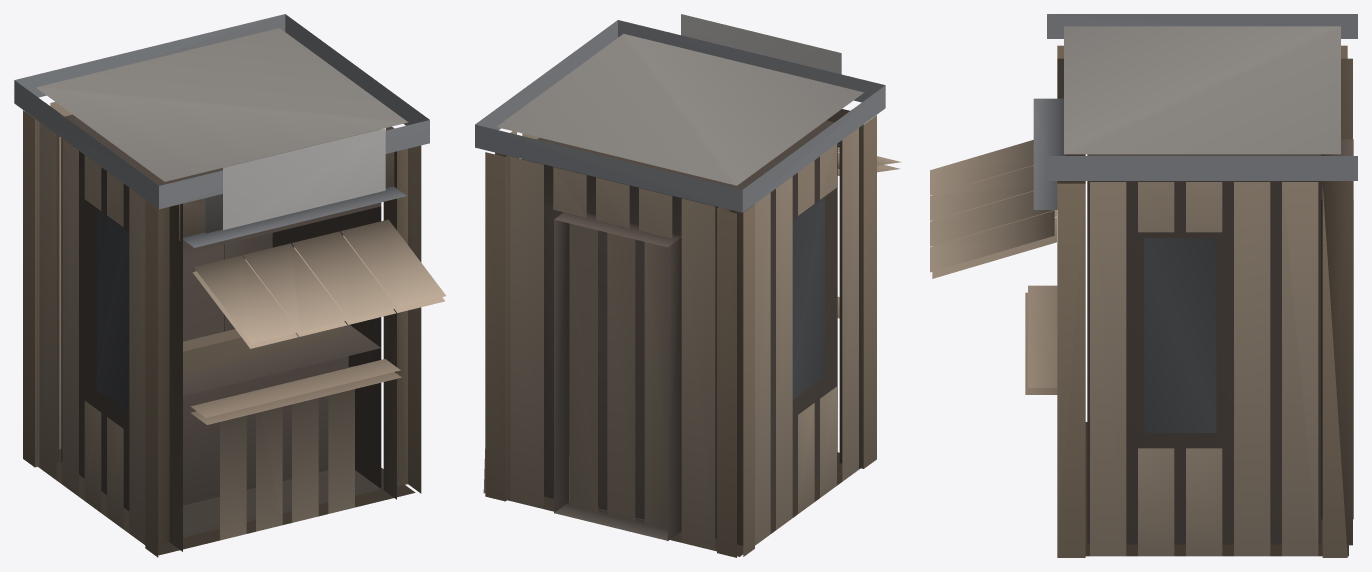
Rendered from kiosk.lod.glb.
3 views of the same model, side by side, from view 1: azimuth 30°, elevation 25°; view 2: azimuth 150°, elevation 25°; view 3: azimuth 270°, elevation 25° (orthographic). The views are drawn at different scales.
Visible parts, largest first — view 1: kiosk; view 2: kiosk; view 3: kiosk.
Part boxes in pixels (left/top/right/bottom): kiosk: left=14, top=14, right=445, bottom=557; kiosk: left=475, top=14, right=901, bottom=557; kiosk: left=930, top=14, right=1357, bottom=557.
Bounding box in the file's own units: 2 × 2.74 × 2.55.
